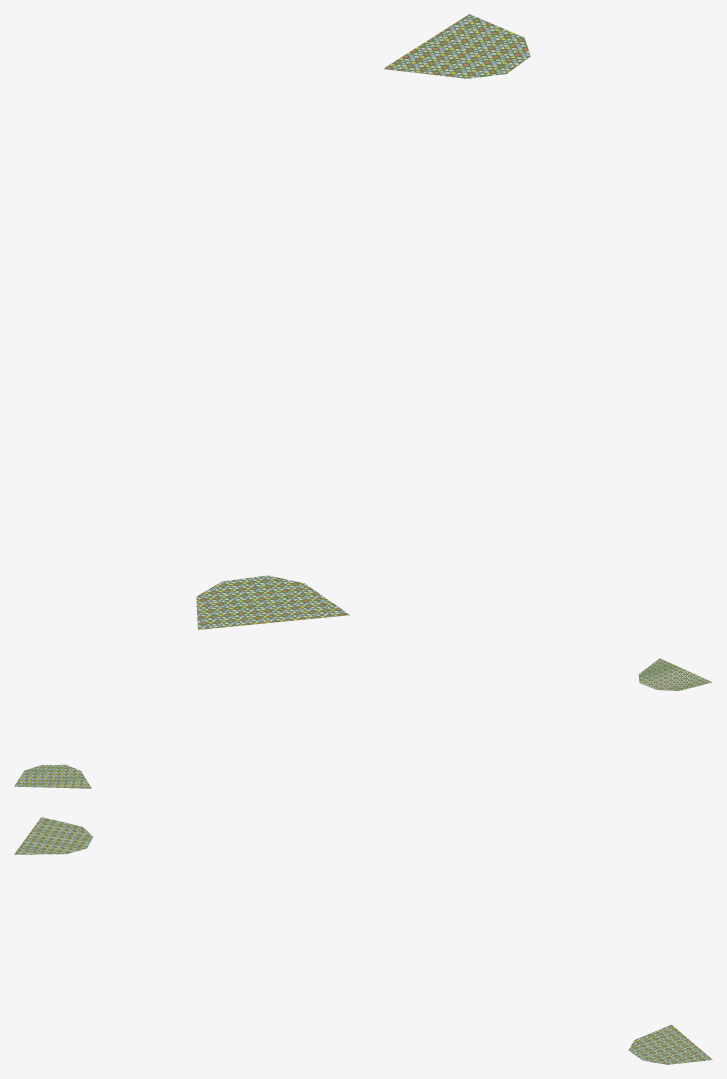
The model's file is kd_stage_1366d7_3_9_bounded.glb.
3 renders of one model, top to bottom at view 1: azimuth 30°, elevation 25°; view 2: azimuth 150°, elevation 25°; view 3: azimuth 270°, elevation 25°, orthographic. The views are drawn at different scales.
Visible parts, largest first — view 1: kd_stage_1366d7_3_9_bounded; view 2: kd_stage_1366d7_3_9_bounded; view 3: kd_stage_1366d7_3_9_bounded.
Boxes of the visible parts, x1,y1,x2,y2 form: kd_stage_1366d7_3_9_bounded: [196, 14, 530, 629]; kd_stage_1366d7_3_9_bounded: [14, 658, 712, 788]; kd_stage_1366d7_3_9_bounded: [14, 817, 712, 1064].
Size of the model in its own units: 128 by 1.14e-05 by 152.
Materials: 1 (1 with a texture image).
